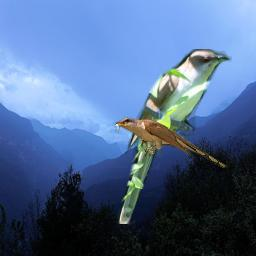Cuckoo: (118, 49, 232, 224), (112, 117, 228, 168)
